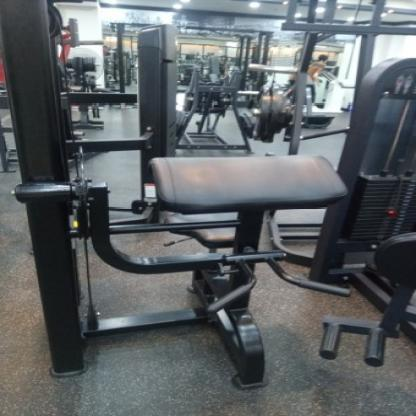arm curl machine: (18, 155, 355, 391)
